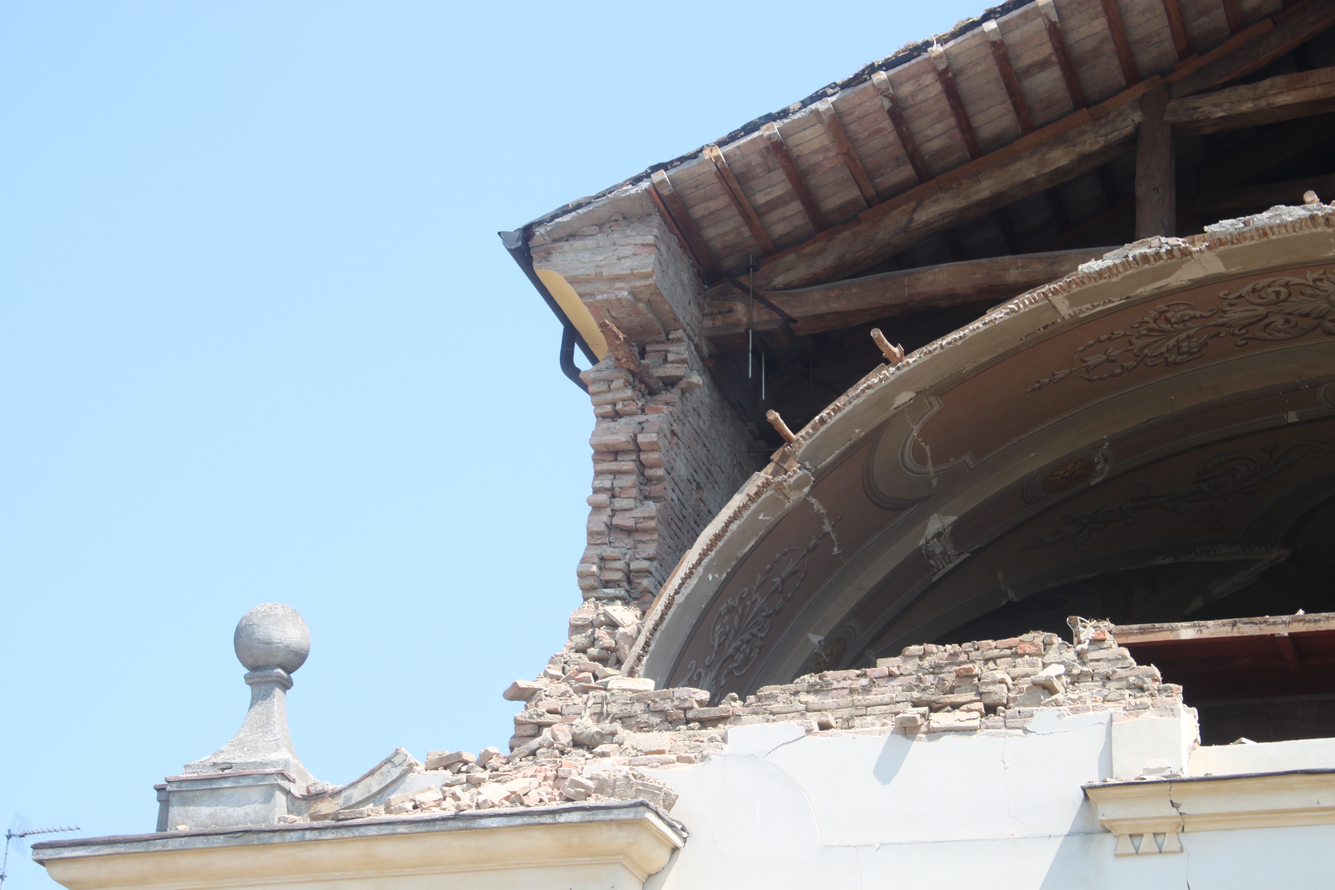Other damage/mechanism: (520, 215, 1330, 791), (627, 101, 1328, 315)
